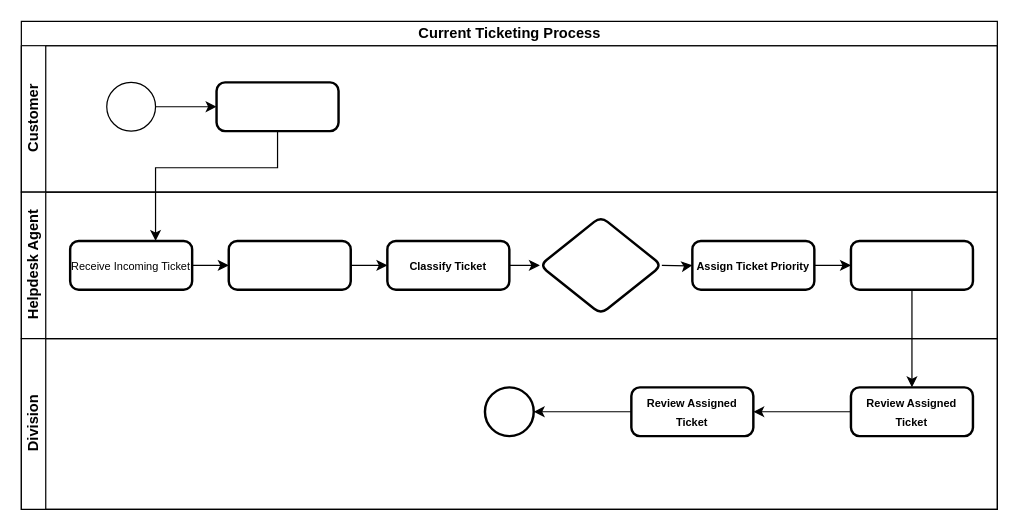
The diagram is 1019 pixels wide and 531 high, and some of its shapes have lost their labels. The shapes that lost their labels are listed below. From the top down, each one's box as (x1, y1, x2, y2) in pixels, then its label:
(215, 81, 339, 132): Send Support Request via Email
(227, 239, 351, 290): Manual Review by Helpdesk Agent
(538, 215, 662, 315): Determine Ticket Priority
(849, 239, 974, 290): Route Ticket to Appropriate Queue / Division
